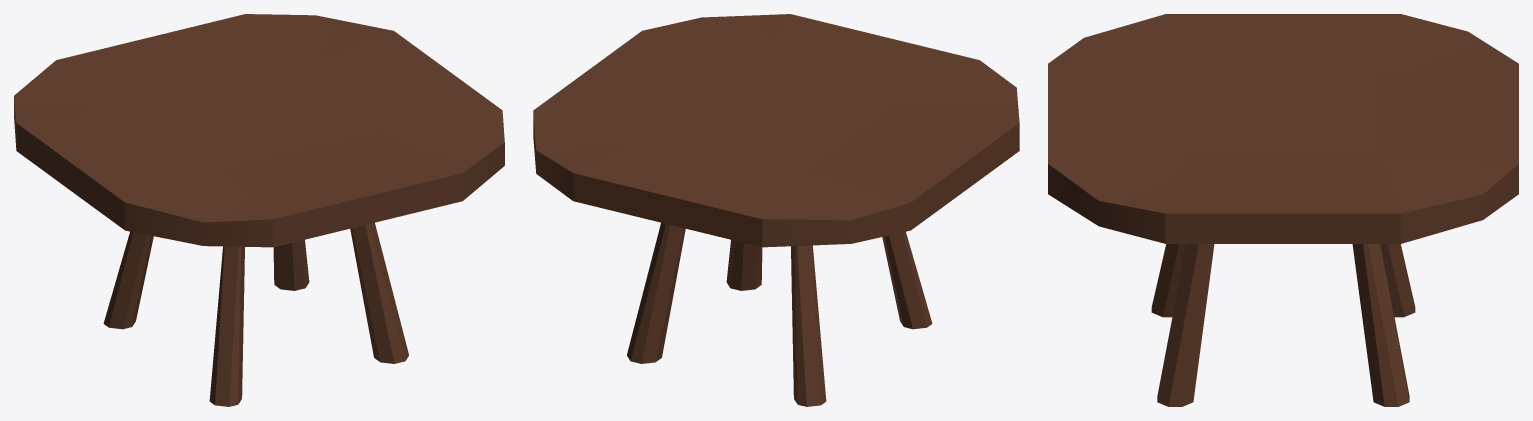
The model's file is table.fbx.
The picture shows the model from 3 angles, left to right: view 1: azimuth 30°, elevation 25°; view 2: azimuth 150°, elevation 25°; view 3: azimuth 270°, elevation 25°; orthographic projection. The views are drawn at different scales.
Visible parts, largest first — view 1: Table; view 2: Table; view 3: Table.
Boxes of the visible parts, x1,y1,x2,y2 form: Table: [14, 14, 504, 406]; Table: [533, 14, 1019, 406]; Table: [1048, 14, 1518, 406].
Bounding box in the file's own units: 1.39 × 0.7882 × 1.39.
Materials: 1 (1 with a texture image).
